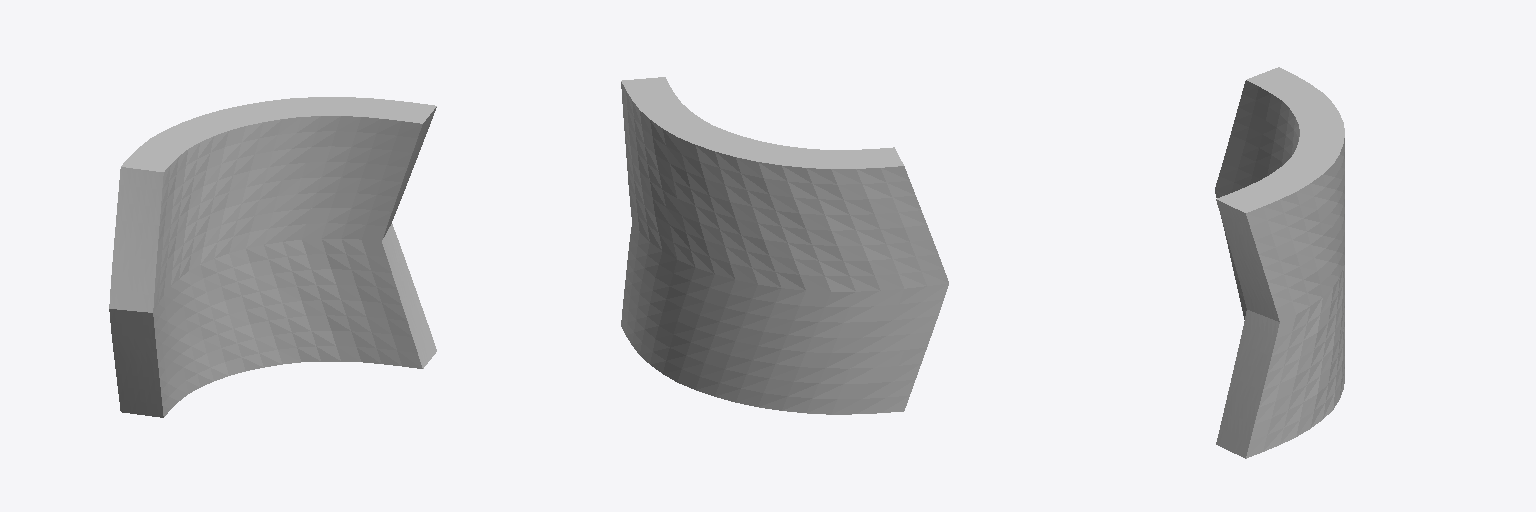
The model's file is curvewall.obj.
3 renders of one model, left to right at view 1: azimuth 30°, elevation 25°; view 2: azimuth 150°, elevation 25°; view 3: azimuth 270°, elevation 25°, orthographic.
Size of the model in its own units: 8.4 by 6 by 2.9.